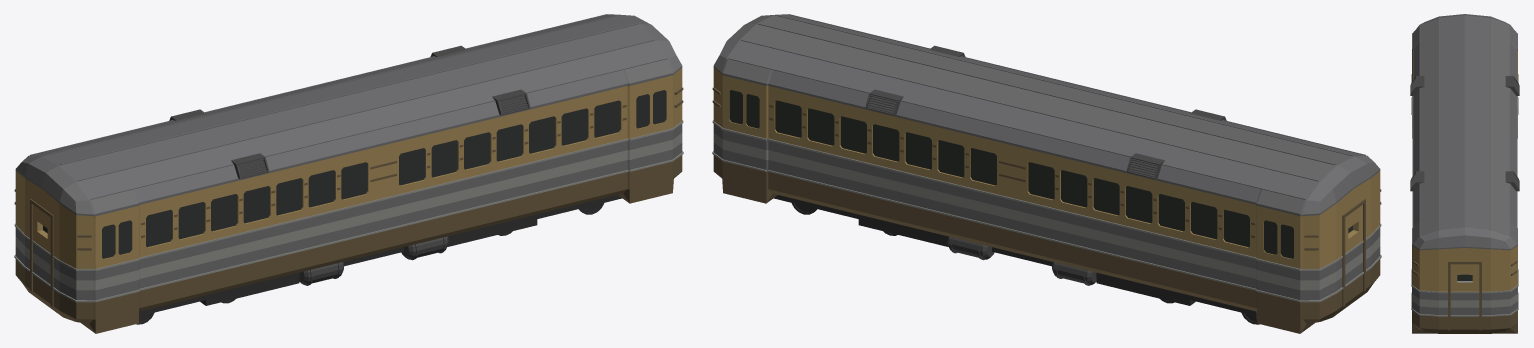
File: quaternius-train-pack-april-cargotrain-wagon.glb
3 renders of one model, left to right at view 1: azimuth 30°, elevation 25°; view 2: azimuth 150°, elevation 25°; view 3: azimuth 270°, elevation 25°, orthographic. The views are drawn at different scales.
Visible parts, largest first — view 1: CargoTrain_Wagon; view 2: CargoTrain_Wagon; view 3: CargoTrain_Wagon.
Boxes of the visible parts, x1,y1,x2,y2 form: CargoTrain_Wagon: [14, 14, 683, 333]; CargoTrain_Wagon: [712, 14, 1381, 333]; CargoTrain_Wagon: [1410, 14, 1519, 333].
Bounding box in the file's own units: 10.25 × 2.62 × 2.1.
1 material, 1 textured.
